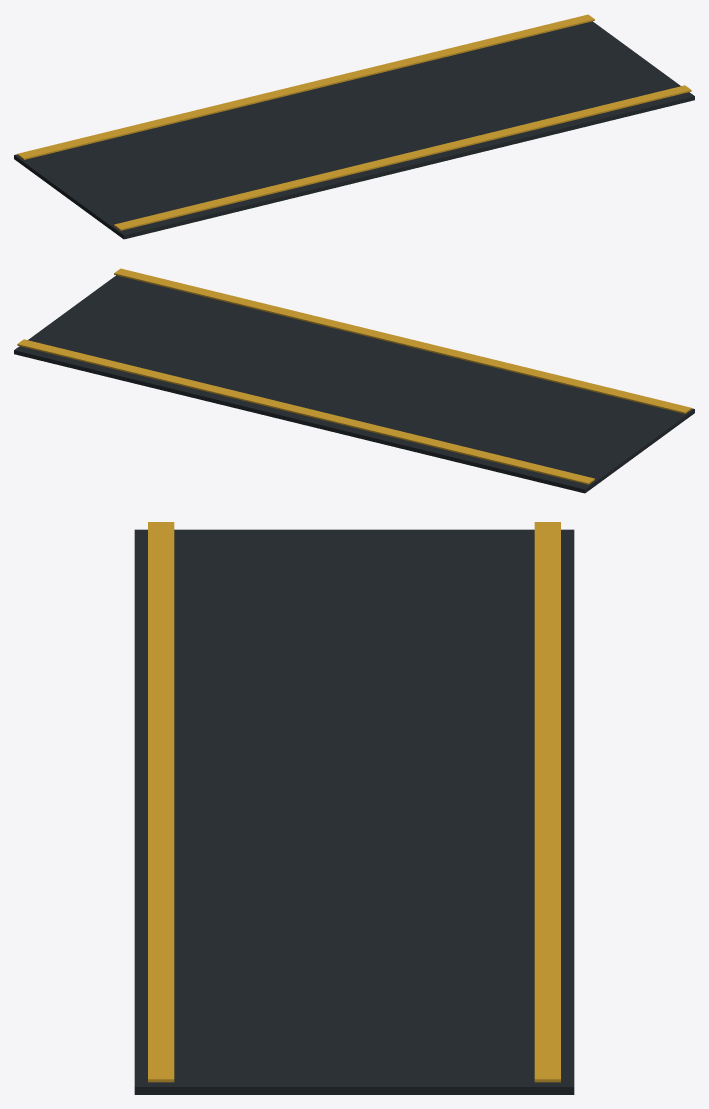
The model's file is floor.hazard_oil_strip.glb.
The picture shows the model from 3 angles, top to bottom: view 1: azimuth 30°, elevation 25°; view 2: azimuth 150°, elevation 25°; view 3: azimuth 270°, elevation 25°; orthographic projection. The views are drawn at different scales.
Visible parts, largest first — view 1: floor_patch, hazard_edge_a, hazard_edge_b; view 2: floor_patch, hazard_edge_a, hazard_edge_b; view 3: floor_patch, hazard_edge_a, hazard_edge_b.
Part boxes in pixels (x1=…): floor_patch: x1=14, y1=21, x2=694, y2=239; hazard_edge_a: x1=17, y1=14, x2=594, y2=159; hazard_edge_b: x1=114, y1=85, x2=691, y2=230; floor_patch: x1=14, y1=275, x2=694, y2=493; hazard_edge_a: x1=17, y1=339, x2=594, y2=484; hazard_edge_b: x1=114, y1=268, x2=691, y2=413; floor_patch: x1=134, y1=529, x2=574, y2=1094; hazard_edge_a: x1=534, y1=522, x2=560, y2=1082; hazard_edge_b: x1=148, y1=522, x2=174, y2=1082.
Size of the model in its own units: 6 by 0.0775 by 2.
